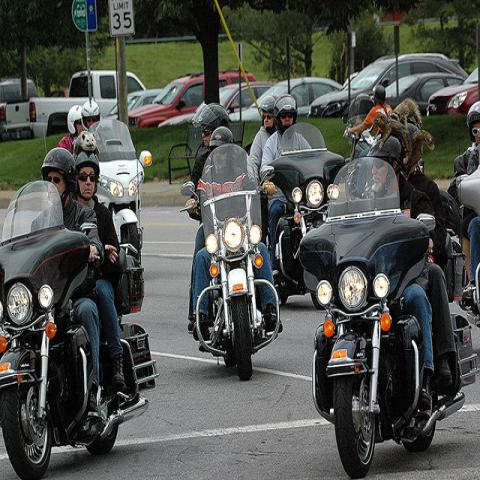car: (309, 53, 467, 119), (128, 71, 258, 127), (160, 81, 276, 127), (229, 77, 344, 123), (386, 72, 469, 110), (426, 68, 478, 115), (1, 80, 42, 136), (100, 90, 163, 120)
motorcycle: (299, 159, 479, 479), (0, 184, 154, 473), (178, 145, 280, 387), (267, 121, 345, 299), (92, 120, 153, 290), (453, 169, 480, 316), (343, 126, 375, 162)
truck: (1, 71, 147, 140)
